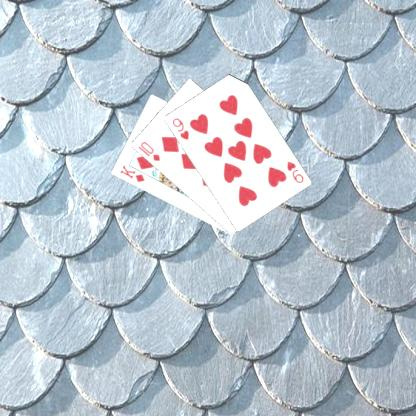10D: (136, 139, 162, 162)
9H: (170, 115, 191, 141), (284, 158, 305, 184)
KD: (117, 162, 146, 184)
